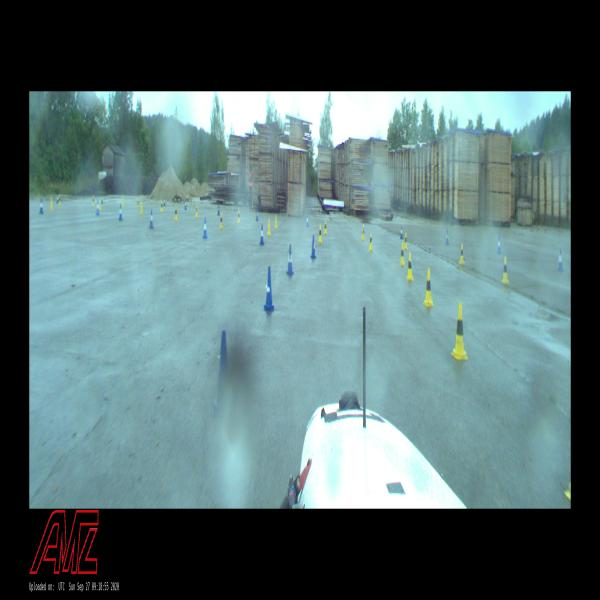blue_cone: (212, 331, 232, 417), (264, 267, 274, 310), (286, 244, 294, 274), (557, 249, 563, 271), (202, 218, 208, 238), (311, 235, 316, 258), (444, 229, 450, 244), (260, 224, 264, 244), (150, 210, 154, 228), (497, 235, 501, 253), (118, 205, 122, 220), (96, 200, 100, 215), (40, 199, 43, 214), (306, 214, 309, 227), (400, 226, 403, 239), (217, 205, 220, 216), (256, 210, 258, 220), (185, 200, 187, 210), (101, 194, 103, 204), (164, 197, 166, 206), (363, 221, 364, 233), (57, 194, 58, 204)
yellow_cone: (453, 302, 466, 358), (424, 269, 433, 306), (406, 253, 414, 280), (502, 257, 508, 283), (400, 242, 404, 264), (460, 244, 464, 264), (369, 232, 373, 251), (318, 225, 322, 243), (267, 219, 271, 234), (174, 206, 178, 221), (274, 215, 278, 228), (404, 232, 407, 249), (220, 214, 223, 229), (324, 221, 327, 234), (50, 198, 53, 209), (362, 225, 364, 240), (122, 196, 125, 206), (141, 201, 143, 214), (238, 210, 240, 222), (161, 200, 163, 212), (196, 205, 198, 216), (92, 195, 94, 206), (100, 198, 101, 210), (138, 198, 139, 208), (59, 195, 60, 204)
